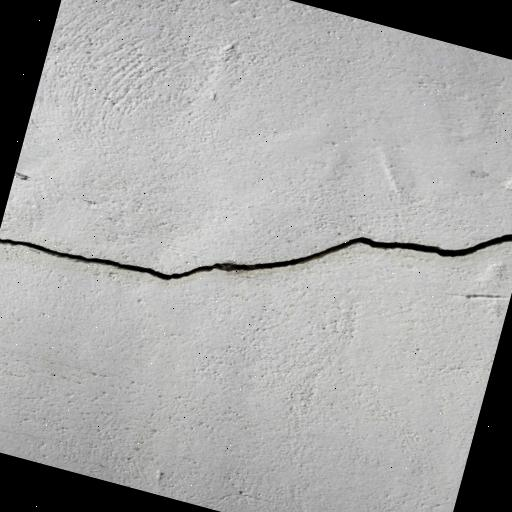spalling: (0, 227, 512, 292)
